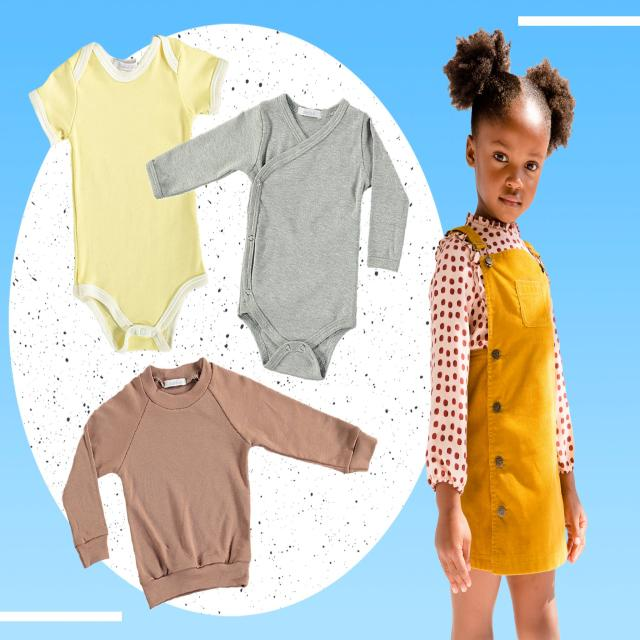child: (432, 30, 588, 640)
